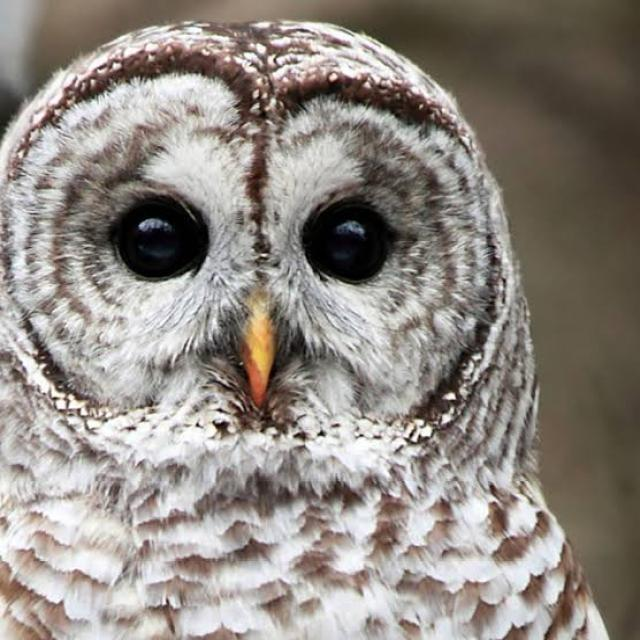barredowl: (3, 12, 552, 566)
